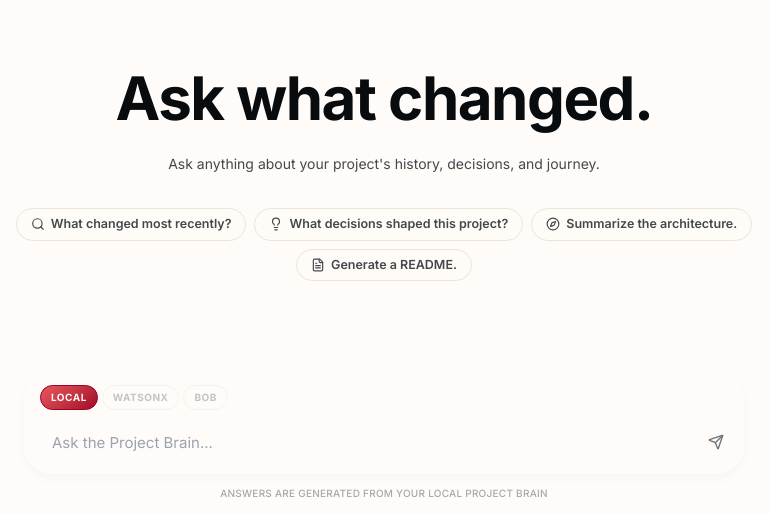
Test: Chat › submits a question and renders citations
The width and height of the screenshot is (769, 514).
Type "What changed?" into the field labelled "Ask the Project Brain..." at (360, 442), box top-left (32, 418), bottom-right (688, 466)
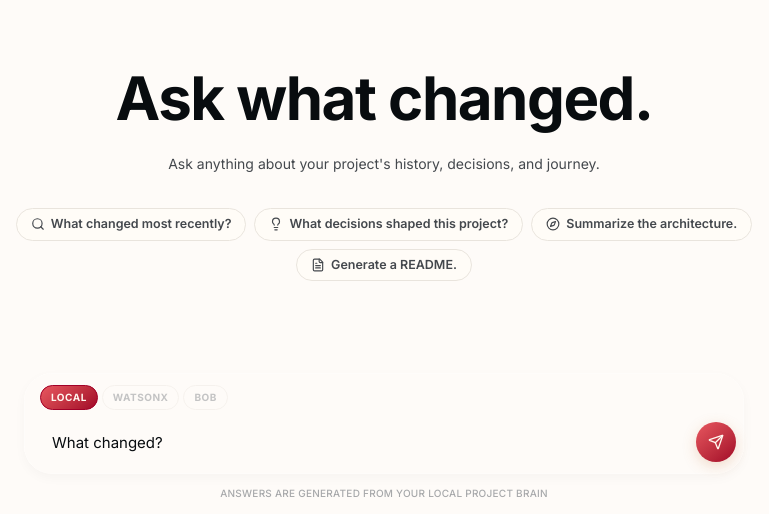
Click the button named "Send" at (716, 442), box top-left (696, 422), bottom-right (736, 462)
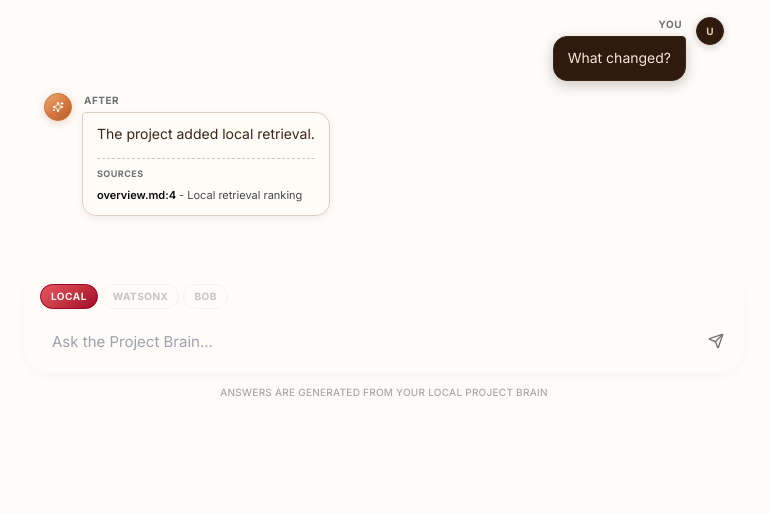
Now the text "The project added local retrieval." is shown, box top-left (97, 125), bottom-right (315, 142)
Now the text "overview.md:4" is shown, box top-left (97, 188), bottom-right (176, 202)
